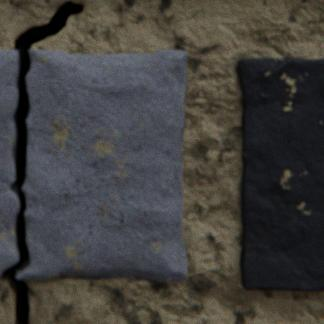brick: (238, 56, 323, 289)
broken_brick: (15, 49, 187, 280), (0, 49, 19, 276)
crack: (0, 0, 85, 323)
